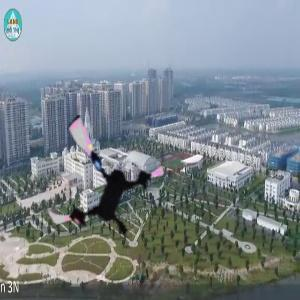drone: (34, 112, 173, 251)
